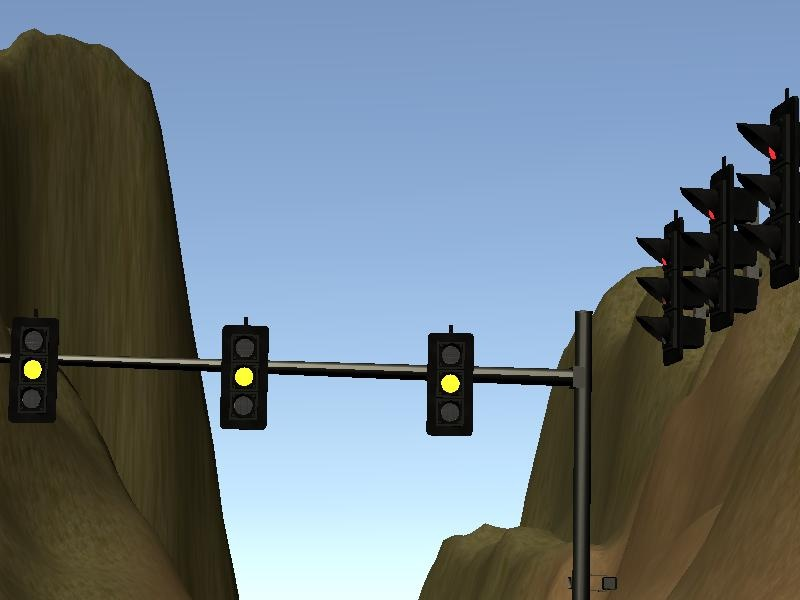YELLOW: (217, 318, 272, 433), (5, 306, 60, 421), (424, 327, 476, 438)
